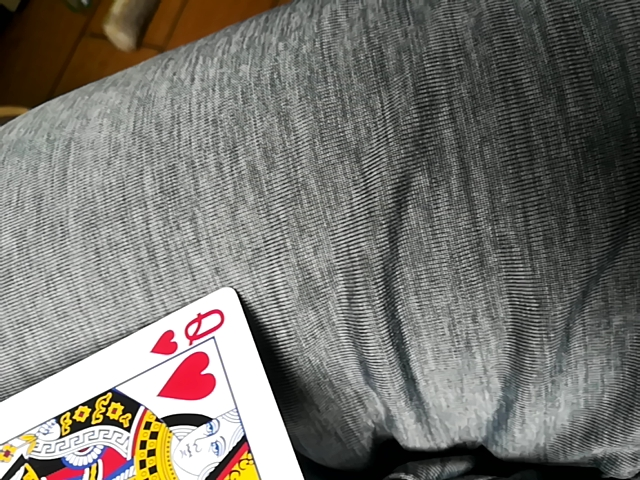hx q: (2, 288, 303, 479)
